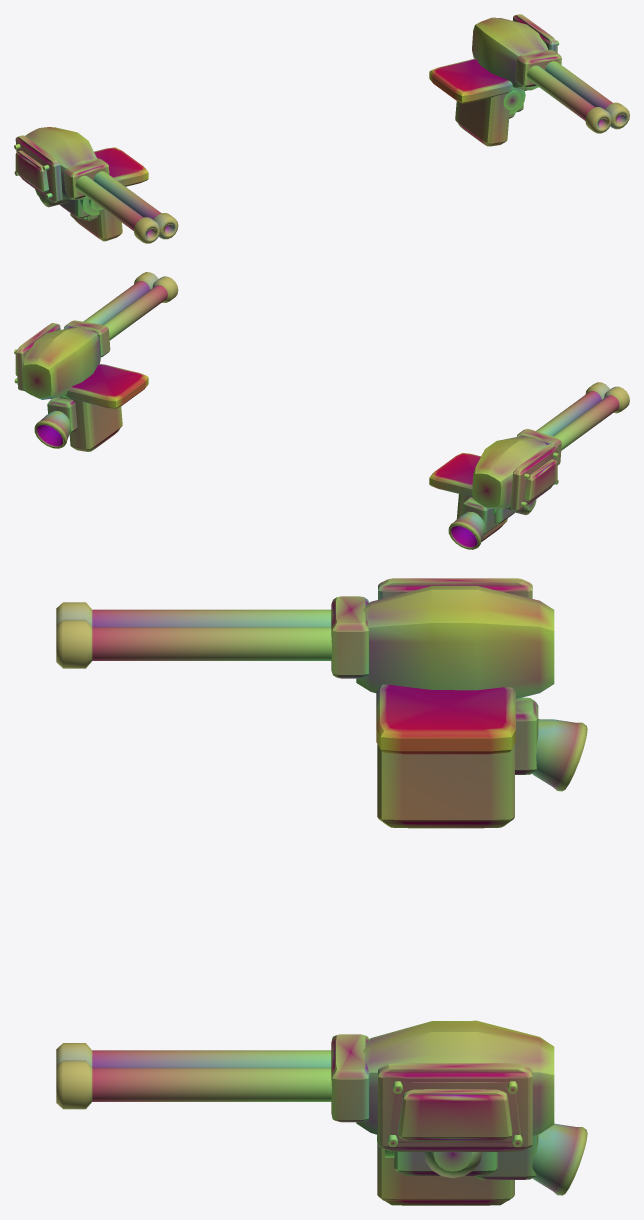
The model's file is llm_gen_shoulder_pods_061_997496.glb.
The picture shows the model from 3 angles, top to bottom: view 1: azimuth 30°, elevation 25°; view 2: azimuth 150°, elevation 25°; view 3: azimuth 270°, elevation 25°; orthographic projection. The views are drawn at different scales.
Parts seen in each view (by area): view 1: adapter_shoulder_yoke_r, cannon_cradle_1_wing_white_r, adapter_shoulder_yoke_l, cannon_cradle_1_wing_white_l, beam_barrel_out_4_barrel_metal_l, beam_barrel_in_3_barrel_metal_r, cannon_side_shroud_blue_8_cobalt_anodized_l, beam_barrel_in_3_barrel_metal_l, beam_barrel_out_4_barrel_metal_r, adapter_sub_heatsink_bezel_dark_7_adapter_dark_l, adapter_sub_mantlet_dark_2_adapter_dark_l, adapter_sub_mantlet_dark_2_adapter_dark_r (+5 smaller); view 2: cannon_cradle_1_wing_white_r, adapter_shoulder_yoke_r, cannon_cradle_1_wing_white_l, adapter_shoulder_yoke_l, beam_barrel_out_4_barrel_metal_l, beam_barrel_in_3_barrel_metal_r, cannon_side_shroud_blue_8_cobalt_anodized_l, addon_sh_vernier_10_vernier_bell_vernier_l, addon_sh_vernier_10_vernier_bell_vernier_r, adapter_sub_heatsink_bezel_dark_7_adapter_dark_l, beam_barrel_in_3_barrel_metal_l, beam_barrel_out_4_barrel_metal_r (+5 smaller); view 3: adapter_shoulder_yoke_l, cannon_cradle_1_wing_white_l, cannon_cradle_1_wing_white_r, beam_barrel_out_4_barrel_metal_r, beam_barrel_in_3_barrel_metal_l, cannon_side_shroud_blue_8_cobalt_anodized_r, adapter_sub_heatsink_bezel_dark_7_adapter_dark_r, adapter_shoulder_yoke_r, beam_barrel_in_3_barrel_metal_r, beam_barrel_out_4_barrel_metal_l, adapter_sub_mantlet_dark_2_adapter_dark_r, adapter_sub_mantlet_dark_2_adapter_dark_l (+8 smaller).
Boxes of the visible parts, x1,y1,x2,y2 form: adapter_shoulder_yoke_r: (429, 58, 525, 146); cannon_cradle_1_wing_white_r: (472, 17, 548, 90); adapter_shoulder_yoke_l: (60, 147, 148, 241); cannon_cradle_1_wing_white_l: (25, 127, 96, 199); beam_barrel_out_4_barrel_metal_l: (75, 175, 143, 230); beam_barrel_in_3_barrel_metal_r: (527, 65, 595, 120); cannon_side_shroud_blue_8_cobalt_anodized_l: (14, 143, 52, 198); beam_barrel_in_3_barrel_metal_l: (93, 171, 161, 219); beam_barrel_out_4_barrel_metal_r: (545, 61, 612, 109); adapter_sub_heatsink_bezel_dark_7_adapter_dark_l: (15, 135, 62, 202); adapter_sub_mantlet_dark_2_adapter_dark_l: (64, 158, 109, 199); adapter_sub_mantlet_dark_2_adapter_dark_r: (515, 50, 561, 87); cannon_cradle_1_wing_white_r: (22, 327, 100, 399); adapter_shoulder_yoke_r: (64, 363, 148, 451); cannon_cradle_1_wing_white_l: (472, 436, 547, 509); adapter_shoulder_yoke_l: (429, 453, 514, 541); beam_barrel_out_4_barrel_metal_l: (553, 395, 619, 450); beam_barrel_in_3_barrel_metal_r: (103, 285, 167, 340); cannon_side_shroud_blue_8_cobalt_anodized_l: (520, 452, 559, 507); addon_sh_vernier_10_vernier_bell_vernier_l: (448, 511, 485, 549); addon_sh_vernier_10_vernier_bell_vernier_r: (34, 410, 70, 448); adapter_sub_heatsink_bezel_dark_7_adapter_dark_l: (510, 444, 557, 511); beam_barrel_in_3_barrel_metal_l: (536, 391, 601, 436); beam_barrel_out_4_barrel_metal_r: (83, 281, 149, 324); adapter_shoulder_yoke_l: (376, 684, 515, 828); cannon_cradle_1_wing_white_l: (356, 586, 554, 698); cannon_cradle_1_wing_white_r: (356, 1020, 554, 1135); beam_barrel_out_4_barrel_metal_r: (92, 1067, 331, 1101); beam_barrel_in_3_barrel_metal_l: (92, 627, 331, 660); cannon_side_shroud_blue_8_cobalt_anodized_r: (388, 1081, 522, 1146); adapter_sub_heatsink_bezel_dark_7_adapter_dark_r: (378, 1063, 532, 1151); adapter_shoulder_yoke_r: (377, 1143, 514, 1205); beam_barrel_in_3_barrel_metal_r: (92, 1050, 331, 1067); beam_barrel_out_4_barrel_metal_l: (92, 609, 331, 626); adapter_sub_mantlet_dark_2_adapter_dark_r: (331, 1034, 369, 1122); adapter_sub_mantlet_dark_2_adapter_dark_l: (331, 596, 369, 678).
Size of the model in its own units: 111 by 20.52 by 49.47.
